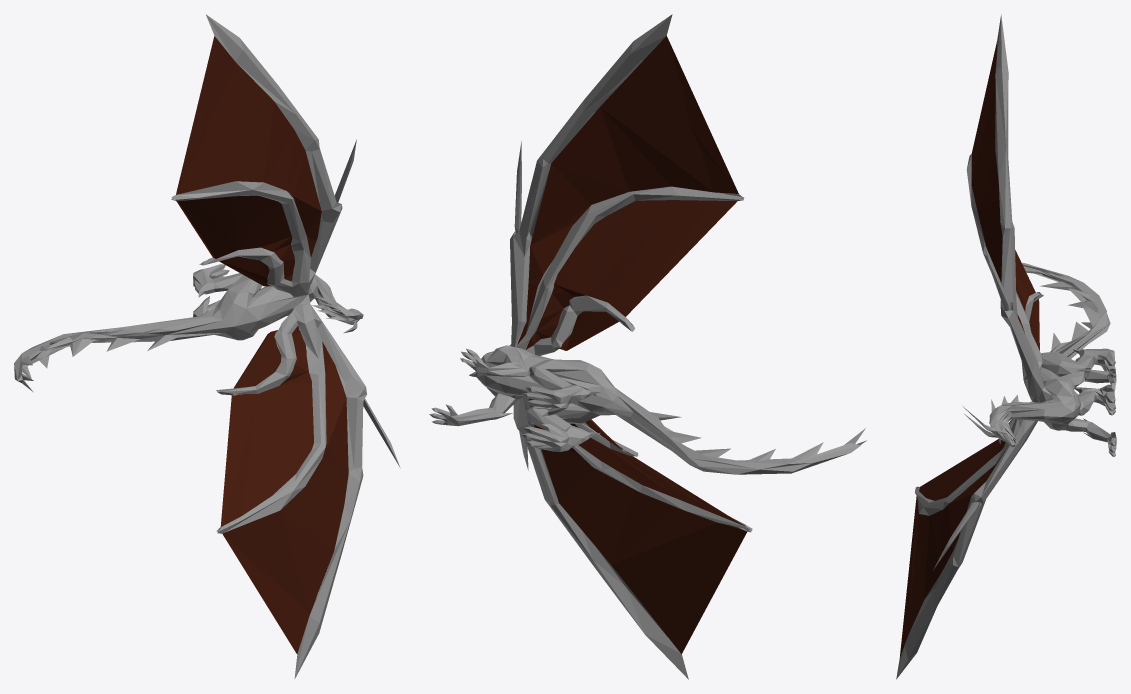
File: Dragon_2.5_For_Animations_000325.obj
3 views of the same model, side by side, from view 1: azimuth 30°, elevation 25°; view 2: azimuth 150°, elevation 25°; view 3: azimuth 270°, elevation 25° (orthographic). The views are drawn at different scales.
Visible parts, largest first — view 1: Cube_Cube.004; view 2: Cube_Cube.004; view 3: Cube_Cube.004.
Part boxes in pixels (x1,y1,x2,y2): Cube_Cube.004: (14,14,400,678); Cube_Cube.004: (429,14,866,679); Cube_Cube.004: (896,14,1116,679).
Bounding box in the file's own units: 83.51 × 149 × 46.05.
